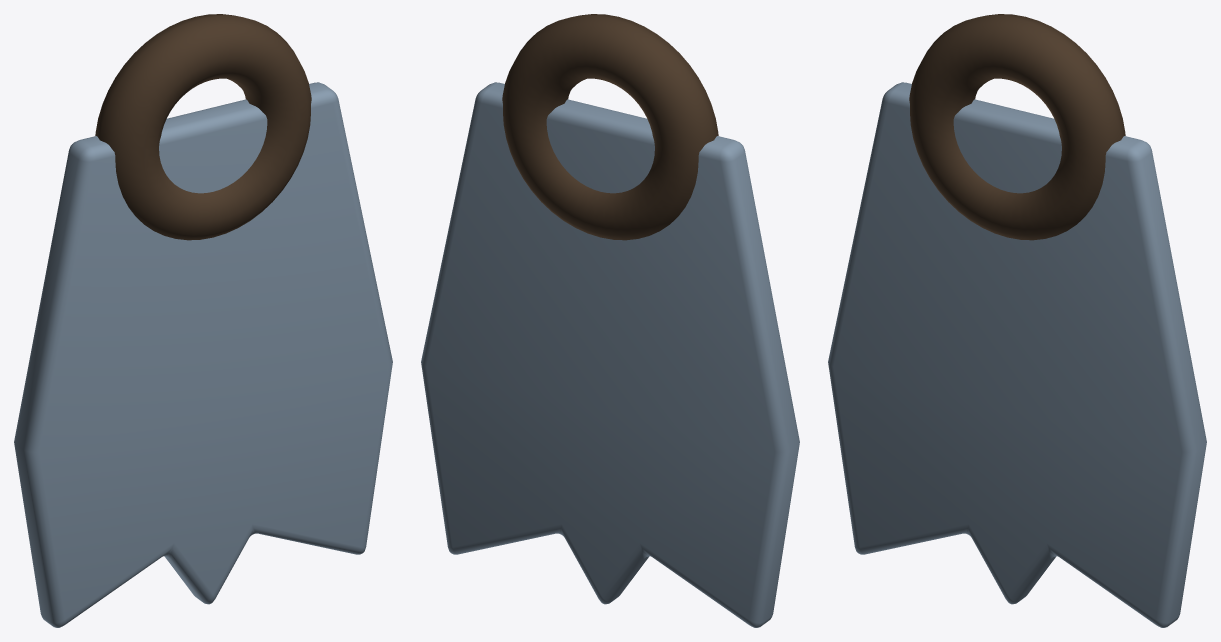
File: cloak_v4.glb
3 renders of one model, left to right at view 1: azimuth 30°, elevation 25°; view 2: azimuth 150°, elevation 25°; view 3: azimuth 330°, elevation 25°, orthographic.
Visible parts, largest first — view 1: RANGER_CLOAK_PRIMARY, RANGER_HOOD_SECONDARY; view 2: RANGER_CLOAK_PRIMARY, RANGER_HOOD_SECONDARY; view 3: RANGER_CLOAK_PRIMARY, RANGER_HOOD_SECONDARY.
Part boxes in pixels (left/top/right/bottom): RANGER_CLOAK_PRIMARY: left=14, top=82, right=392, bottom=627; RANGER_HOOD_SECONDARY: left=95, top=14, right=311, bottom=240; RANGER_CLOAK_PRIMARY: left=421, top=82, right=799, bottom=627; RANGER_HOOD_SECONDARY: left=502, top=14, right=718, bottom=240; RANGER_CLOAK_PRIMARY: left=828, top=82, right=1206, bottom=627; RANGER_HOOD_SECONDARY: left=909, top=14, right=1125, bottom=240.
Size of the model in its own units: 2.08 by 3.14 by 0.32.
